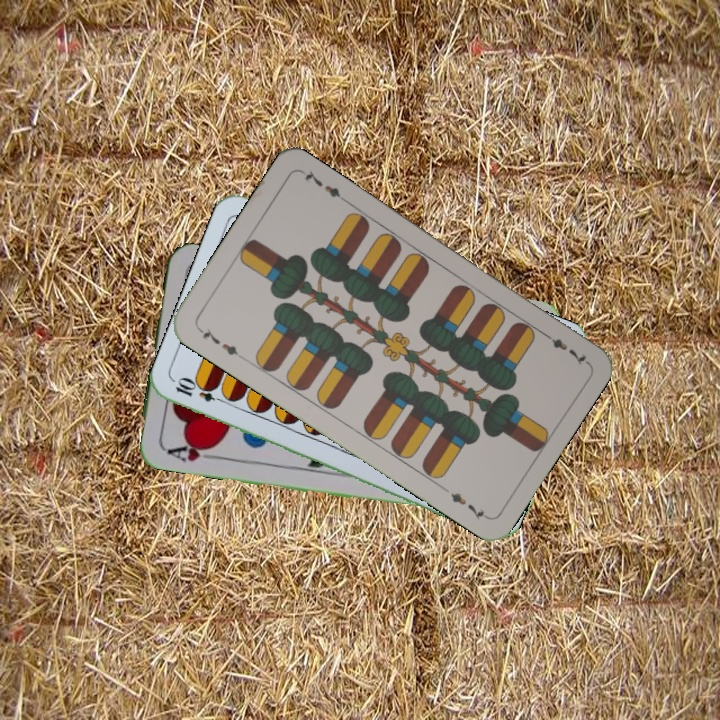E10: (171, 376, 230, 406)
E7: (538, 327, 590, 368), (194, 323, 246, 362)
HA: (163, 438, 220, 465)
